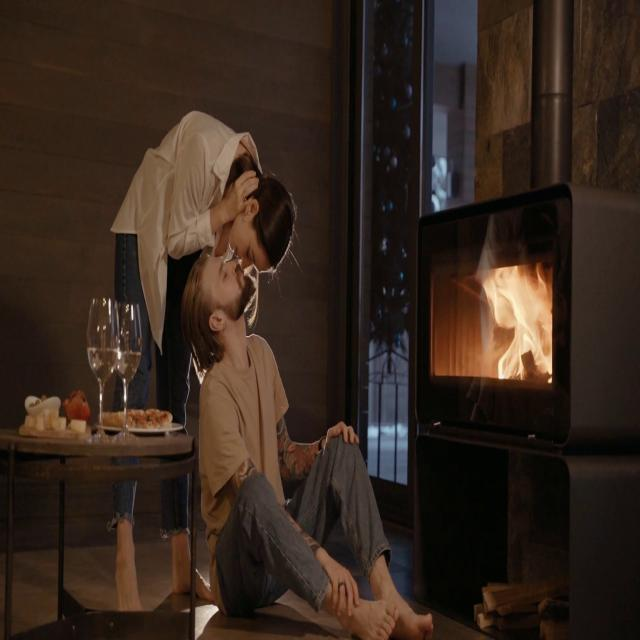Fire: (473, 262, 557, 376)
